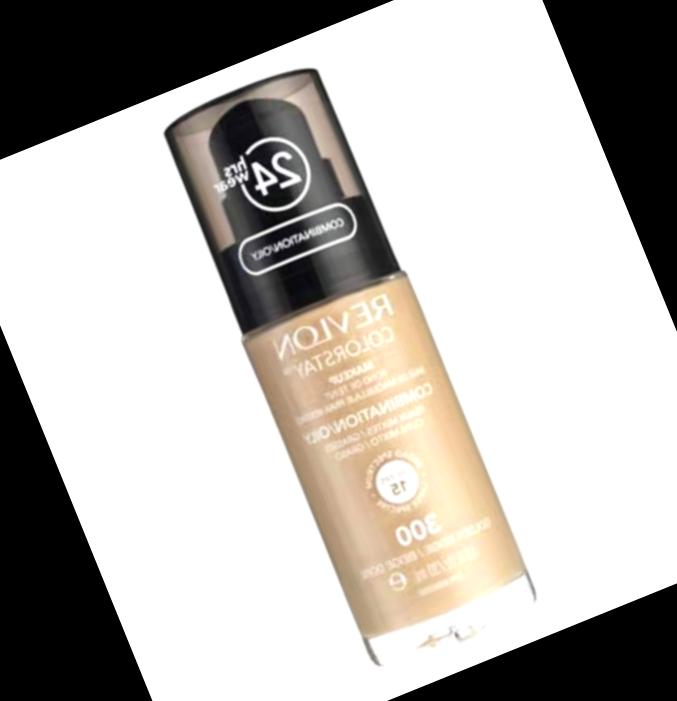cosmetic: (150, 56, 541, 669)
